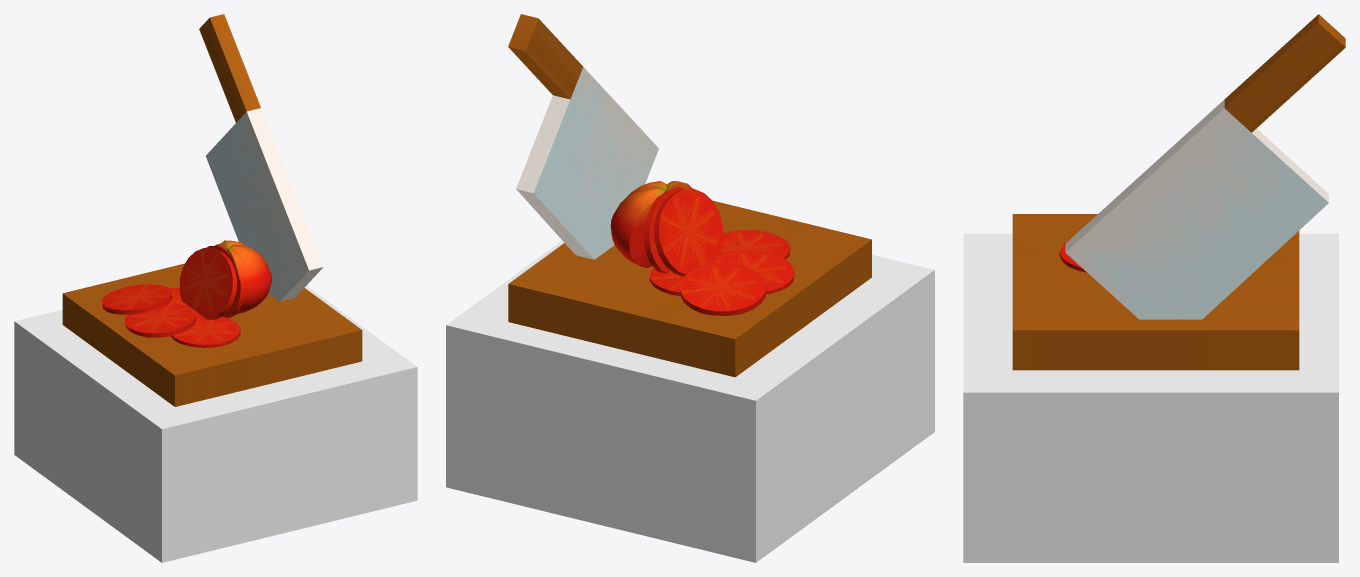
File: knife_tomato.obj
3 views of the same model, side by side, from view 1: azimuth 30°, elevation 25°; view 2: azimuth 150°, elevation 25°; view 3: azimuth 270°, elevation 25° (orthographic). The views are drawn at different scales.
Parts seen in each view (by area): view 1: Knife:polySurface1 polySurface1, polySurface2 Knife:polySurface1, polySurface15; view 2: Knife:polySurface1 polySurface1, polySurface2 Knife:polySurface1, polySurface15; view 3: Knife:polySurface1 polySurface1, polySurface2 Knife:polySurface1.
Part boxes in pixels (x1,y1,x2,y2): Knife:polySurface1 polySurface1: (14, 263, 417, 562); polySurface2 Knife:polySurface1: (199, 14, 323, 301); polySurface15: (101, 240, 271, 347); Knife:polySurface1 polySurface1: (446, 200, 934, 562); polySurface2 Knife:polySurface1: (508, 14, 658, 259); polySurface15: (610, 181, 794, 315); Knife:polySurface1 polySurface1: (963, 214, 1338, 562); polySurface2 Knife:polySurface1: (1065, 14, 1345, 319).
Bounding box in the file's own units: 1 × 1.49 × 1.02.
5 materials, 5 textured.
